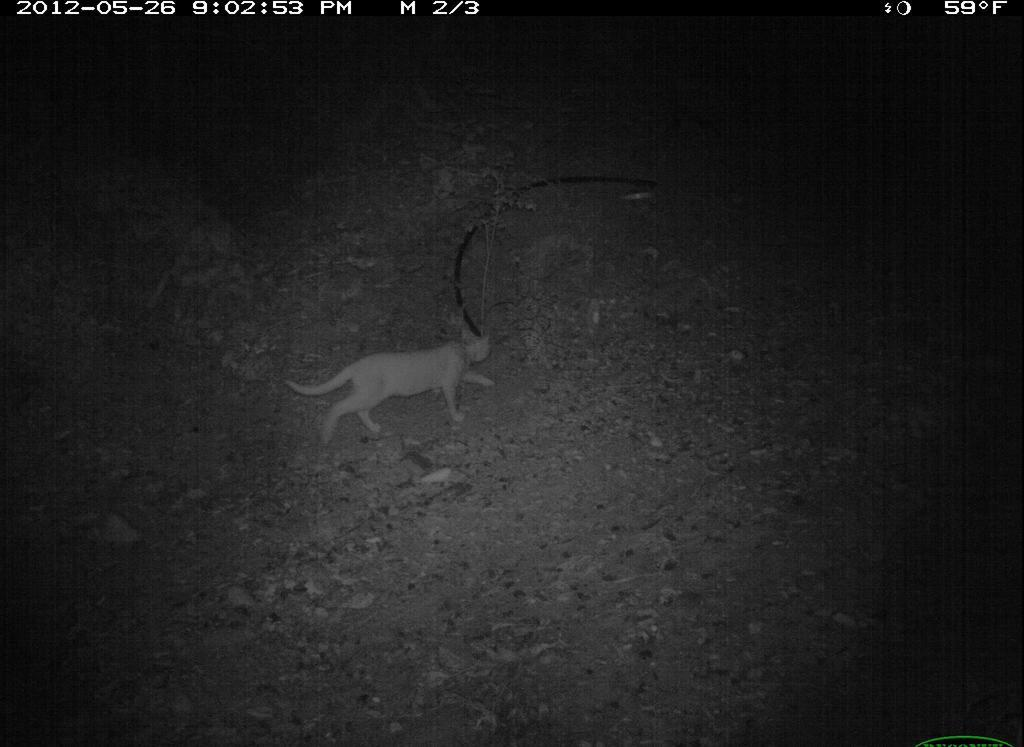cat: (278, 321, 502, 452)
